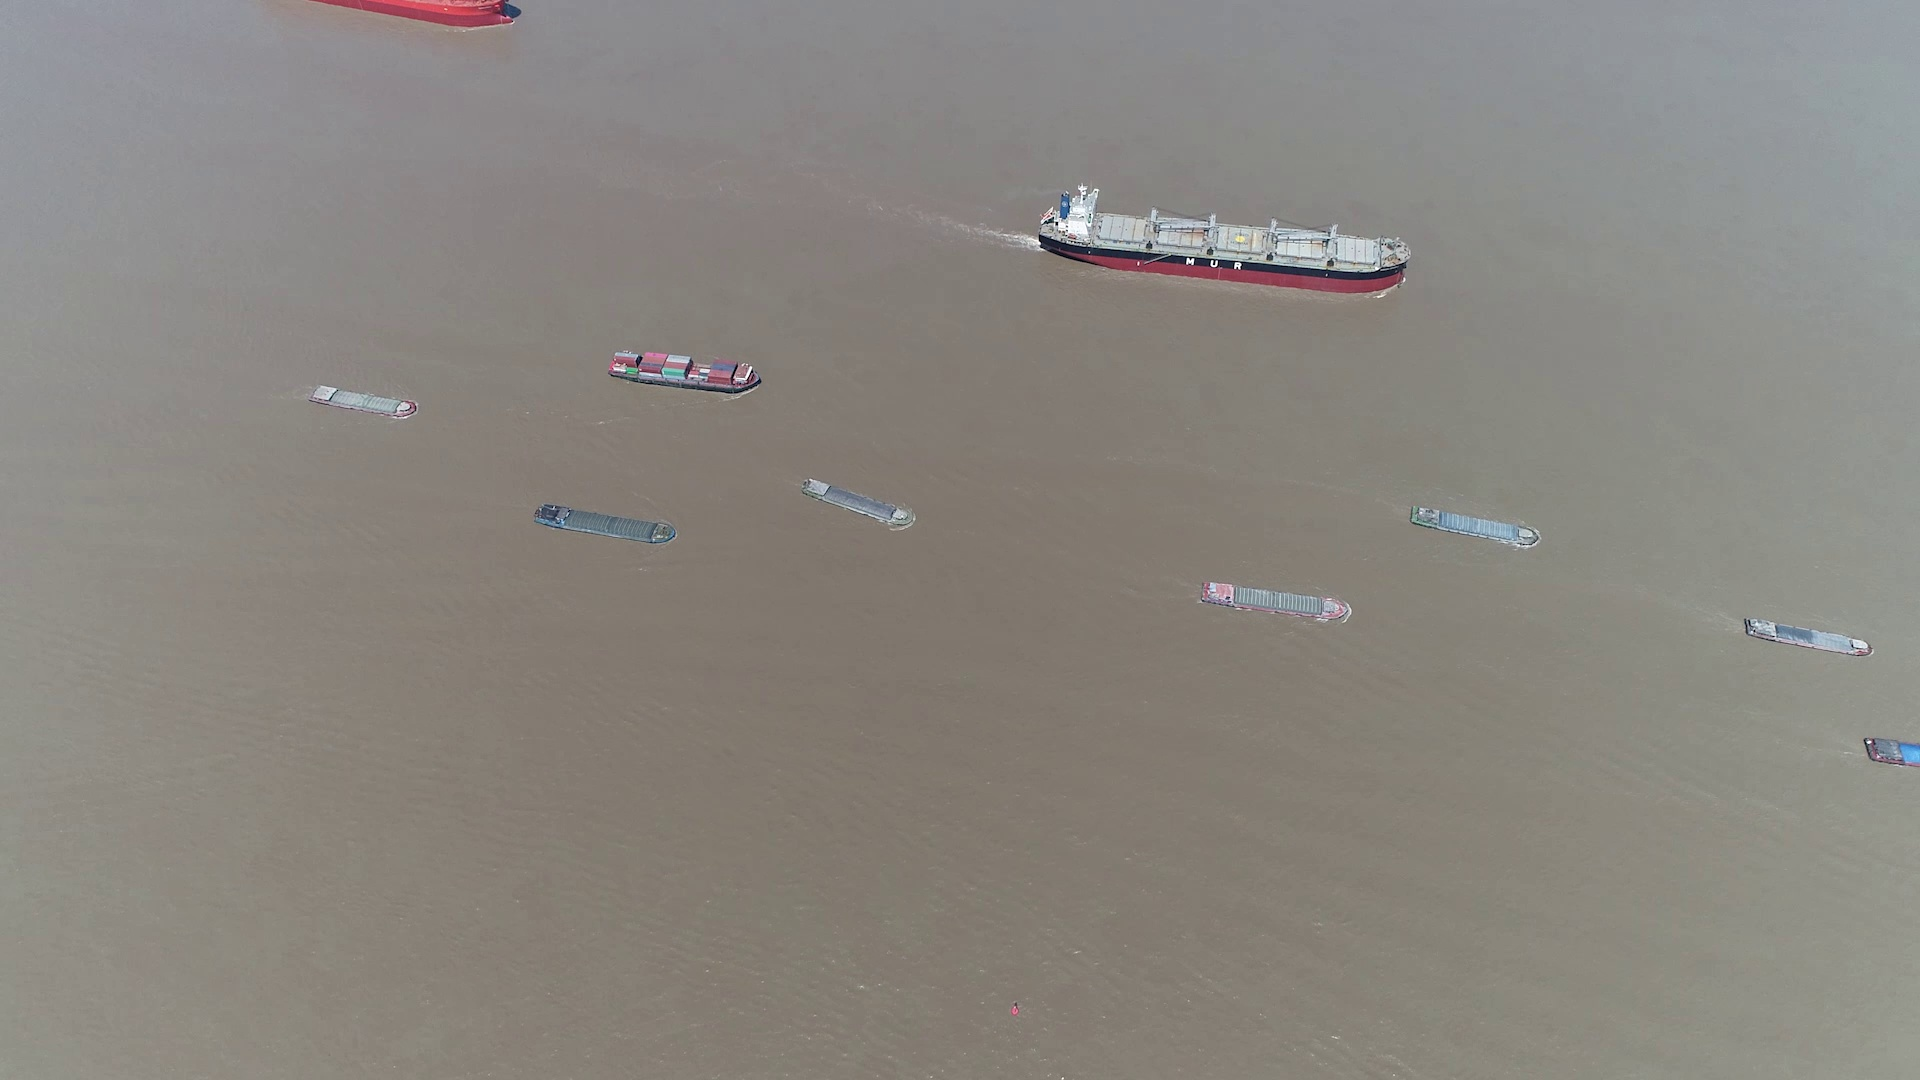ship: (1040, 187, 1411, 294), (607, 349, 762, 392), (1201, 580, 1352, 621), (535, 502, 676, 545), (1408, 505, 1539, 550), (1741, 615, 1873, 658), (804, 479, 915, 530), (309, 382, 419, 418), (1865, 736, 1919, 770)
